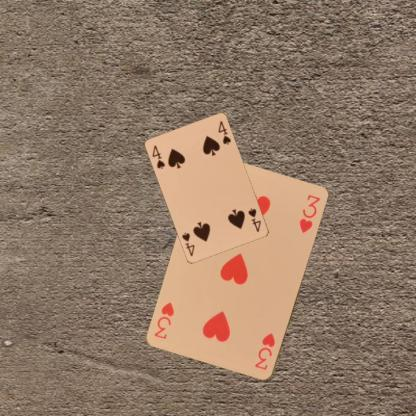3h: (252, 330, 277, 372)
4s: (246, 206, 262, 233), (150, 143, 166, 170)
